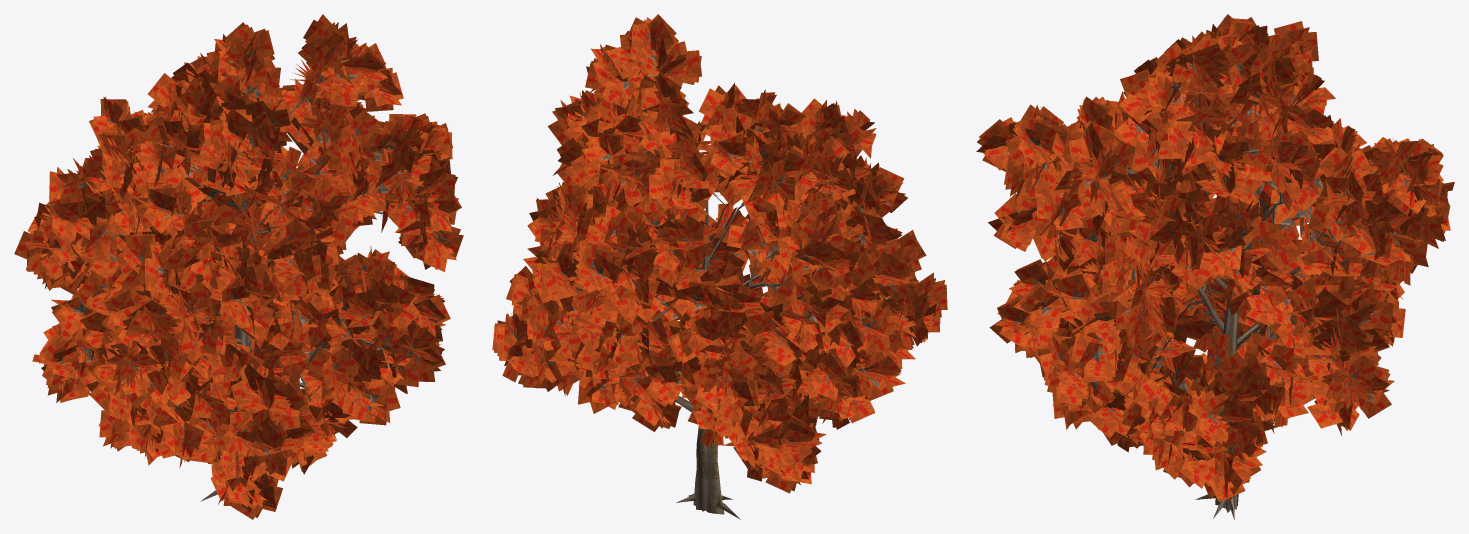
File: maple-fall-balanced.gltf
3 renders of one model, left to right at view 1: azimuth 30°, elevation 25°; view 2: azimuth 150°, elevation 25°; view 3: azimuth 270°, elevation 25°, orthographic. The views are drawn at different scales.
Parts seen in each view (by area): view 1: Sugar Maple balanced Fall; view 2: Sugar Maple balanced Fall; view 3: Sugar Maple balanced Fall.
Part boxes in pixels (x1=…): Sugar Maple balanced Fall: x1=14, y1=14, x2=463, y2=519; Sugar Maple balanced Fall: x1=492, y1=14, x2=947, y2=519; Sugar Maple balanced Fall: x1=976, y1=14, x2=1454, y2=519.
Size of the model in its own units: 774 by 900 by 773.
2 materials, 2 textured.
